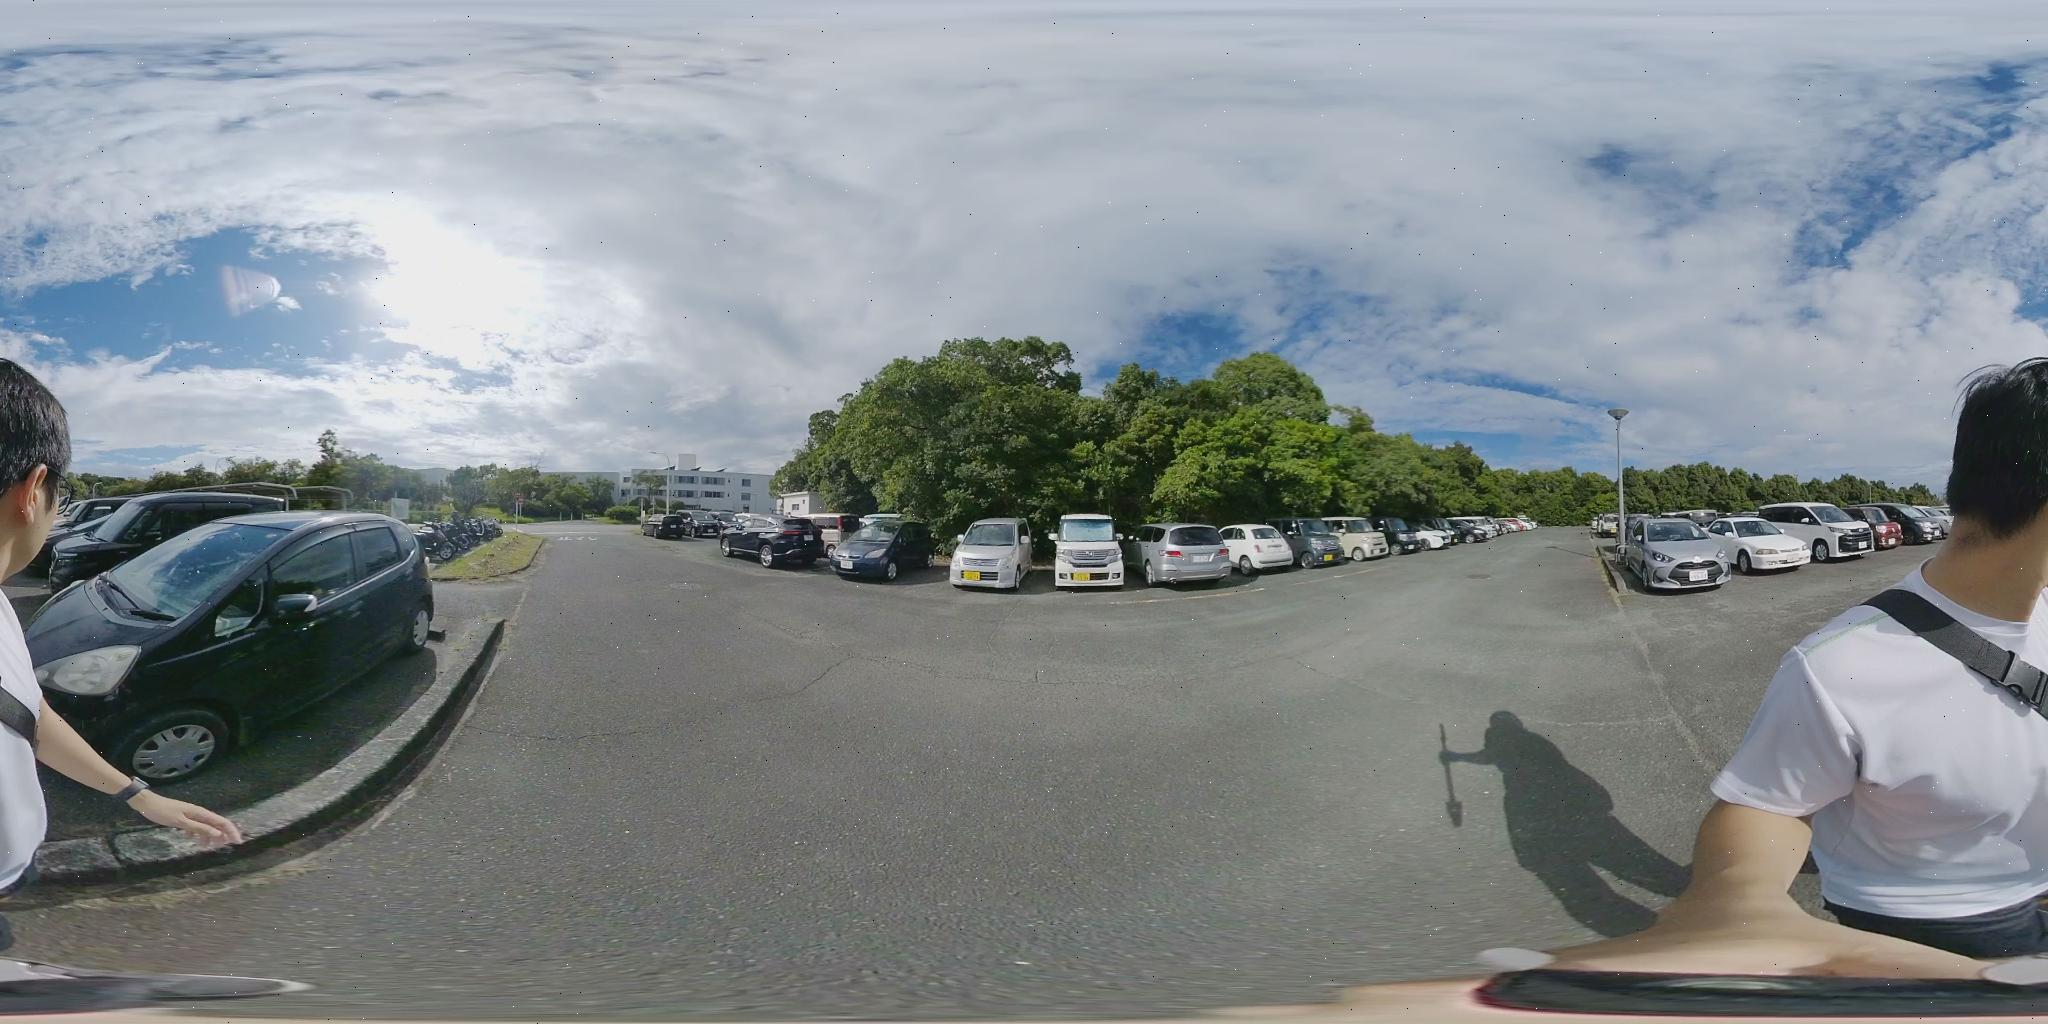car: (8, 505, 455, 857), (26, 491, 303, 593), (1600, 519, 1742, 592), (1761, 502, 1887, 556), (951, 516, 1037, 590), (828, 521, 936, 579), (1142, 521, 1241, 583), (1706, 520, 1817, 573), (1054, 513, 1125, 593), (1224, 525, 1304, 576), (1320, 516, 1400, 560), (1844, 507, 1920, 549), (1893, 504, 1945, 539), (1435, 519, 1499, 543), (1502, 517, 1536, 534)
